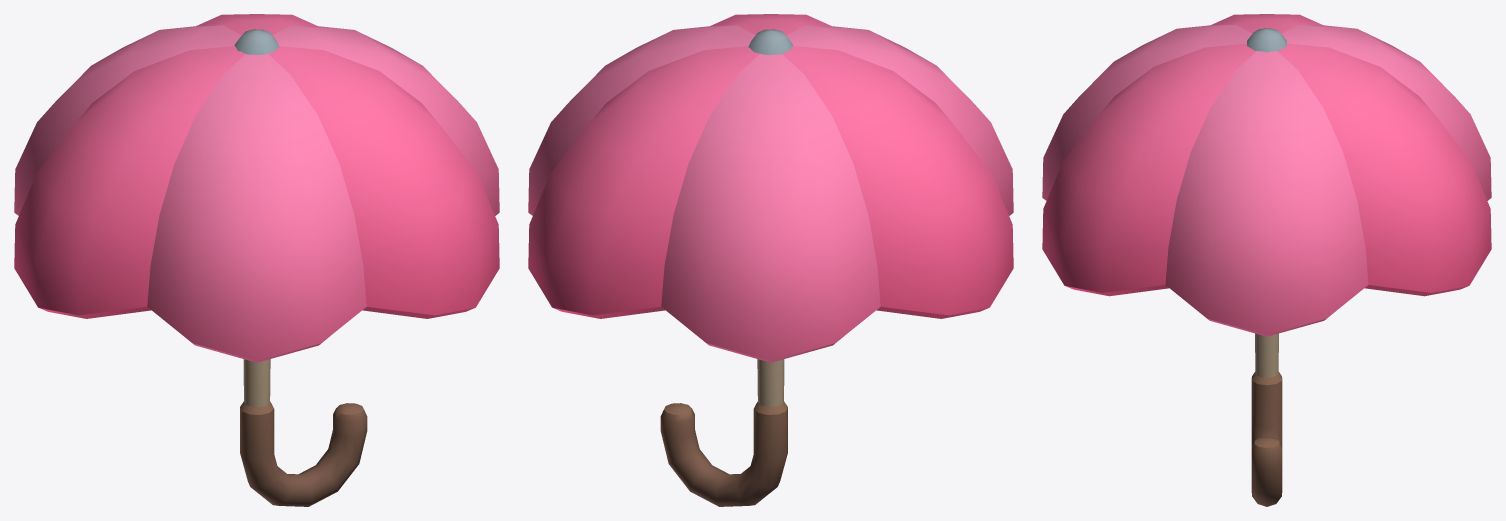
The model's file is umbrella_pink.glb.
The picture shows the model from 3 angles, left to right: view 1: azimuth 30°, elevation 25°; view 2: azimuth 150°, elevation 25°; view 3: azimuth 270°, elevation 25°; orthographic projection. The views are drawn at different scales.
Parts seen in each view (by area): view 1: umbrella_pink; view 2: umbrella_pink; view 3: umbrella_pink.
Part boxes in pixels (x1,y1,x2,y2): umbrella_pink: (14,14,499,506); umbrella_pink: (528,14,1013,506); umbrella_pink: (1042,14,1491,506).
Bounding box in the file's own units: 1.77 × 1.86 × 1.68.
Materials: 1 (1 with a texture image).
